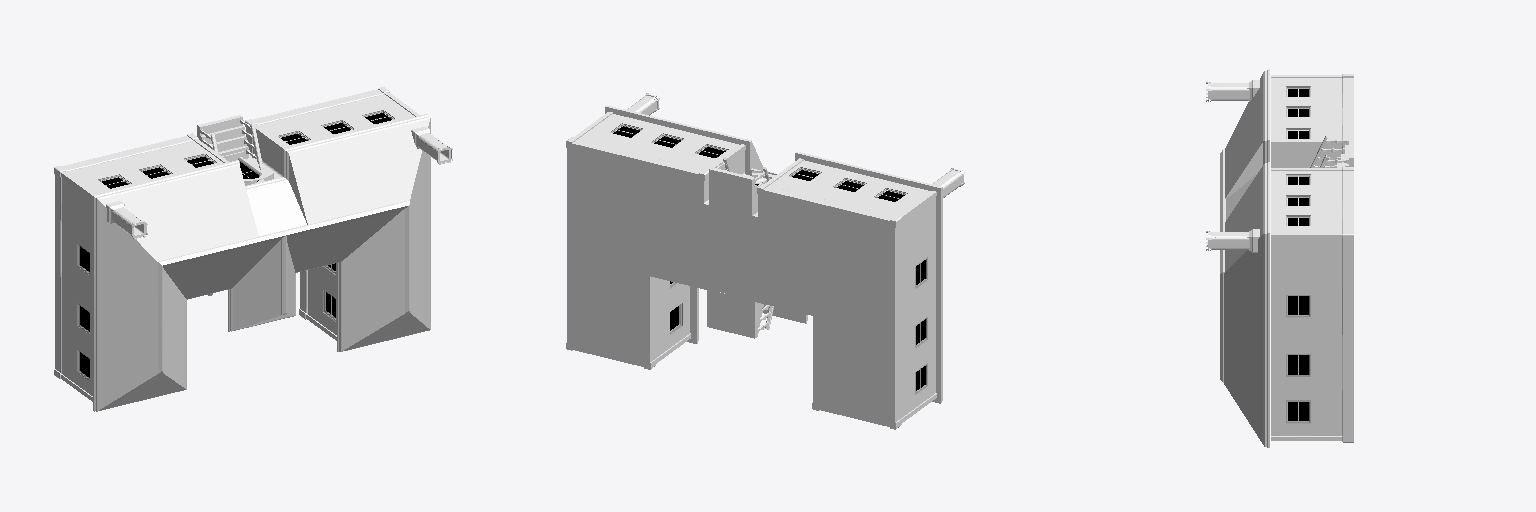
The model's file is house01.obj.
3 views of the same model, side by side, from view 1: azimuth 30°, elevation 25°; view 2: azimuth 150°, elevation 25°; view 3: azimuth 270°, elevation 25° (orthographic).
Visible parts, largest first — view 1: roof, object01, roof_top, chimneys, border02, border, border1; view 2: roof, object01, steps, chimneys, border1; view 3: roof, object01, chimneys, roof_top, border1, border.
Boxes of the visible parts, box(x1,y1,x2,y2) form: roof: box(54, 87, 430, 411); object01: box(77, 110, 394, 380); roof_top: box(158, 200, 409, 372); chimneys: box(106, 126, 452, 239); border02: box(94, 114, 429, 411); border: box(96, 116, 429, 411); border1: box(93, 114, 428, 410); roof: box(566, 112, 936, 429); object01: box(605, 107, 940, 403); steps: box(707, 289, 763, 338); chimneys: box(627, 93, 964, 197); border1: box(605, 106, 941, 402); roof: box(1224, 71, 1353, 446); object01: box(1286, 86, 1353, 423); chimneys: box(1206, 80, 1259, 252); roof_top: box(1220, 149, 1225, 382); border1: box(1268, 69, 1269, 447); border: box(1265, 71, 1266, 446).
Size of the model in its own units: 0.127 by 0.0797 by 0.0486.